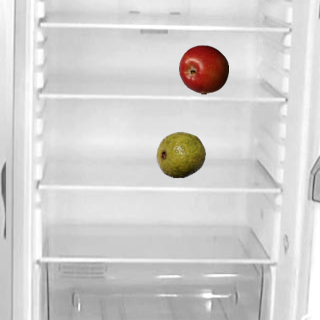Apple Braeburn: (178, 44, 228, 94)
Guava: (155, 129, 205, 179)
